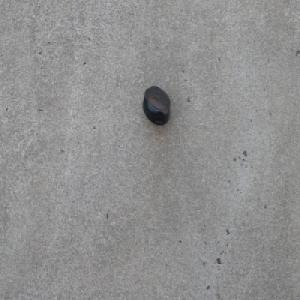FuelCap: (142, 85, 171, 126)
